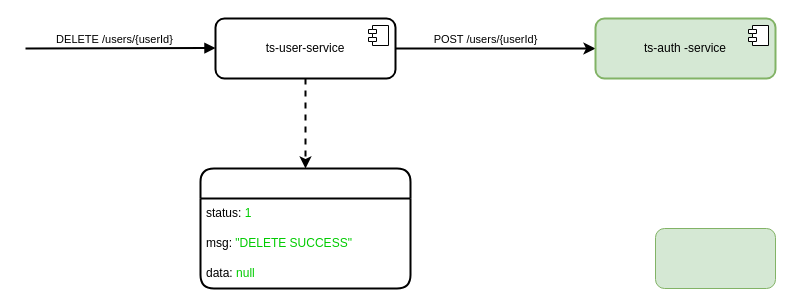
The diagram is 793 pixels wide and 306 high, and some of its shapes have lost their labels. Here are the shapes that lost their labels. From the top down, the box of each, then its label:
(199, 167, 411, 289): Response
(654, 228, 776, 288): Service & Database
